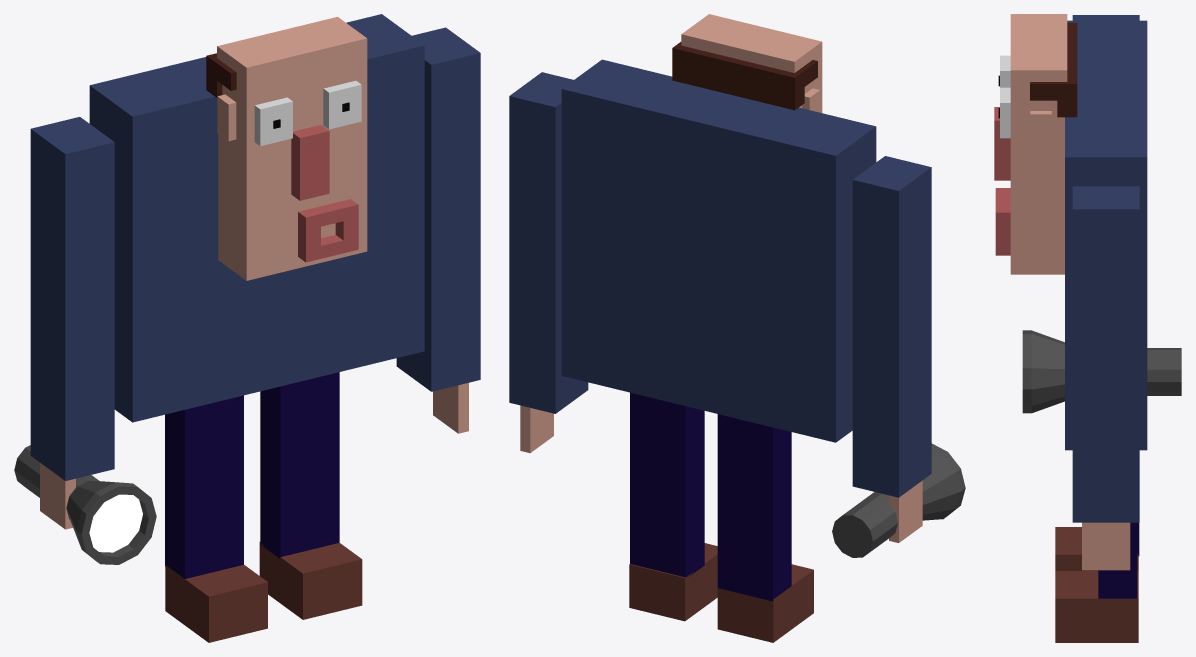
The model's file is Man.glb.
3 renders of one model, left to right at view 1: azimuth 30°, elevation 25°; view 2: azimuth 150°, elevation 25°; view 3: azimuth 270°, elevation 25°, orthographic. The views are drawn at different scales.
Parts seen in each view (by area): view 1: Cube, Cube.003, Cube.001, Cube.002, Cube.004, Cube.005, Cylinder, Cube.007, Cube.006, Cube.016, Cube.010, Cube.011 (+5 smaller); view 2: Cube, Cube.003, Cube.002, Cube.005, Cube.004, Cube.013, Cylinder, Cube.001, Cube.007, Cube.006, Cube.009, Cube.008; view 3: Cube.002, Cube, Cube.001, Cube.006, Cylinder, Cube.008, Cube.013, Cube.004, Cube.007, Cube.016, Cube.010, Cube.014 (+3 smaller).
Part boxes in pixels (x1,y1,x2,y2): Cube: (89, 14, 424, 422); Cube.003: (30, 117, 114, 480); Cube.001: (217, 16, 367, 280); Cube.002: (396, 27, 480, 391); Cube.004: (260, 372, 339, 558); Cube.005: (165, 395, 243, 578); Cylinder: (14, 445, 156, 564); Cube.007: (165, 565, 267, 642); Cube.006: (259, 542, 362, 619); Cube.016: (298, 199, 358, 262); Cube.010: (291, 125, 329, 200); Cube.011: (323, 80, 361, 129); Cube: (561, 59, 876, 442); Cube.003: (852, 156, 931, 497); Cube.002: (509, 72, 588, 413); Cube.005: (717, 414, 791, 601); Cube.004: (630, 392, 704, 577); Cube.013: (672, 42, 817, 110); Cylinder: (832, 443, 965, 557); Cube.001: (681, 14, 822, 112); Cube.007: (717, 564, 813, 642); Cube.006: (629, 543, 717, 621); Cube.009: (889, 480, 922, 542); Cube.008: (520, 405, 553, 453); Cube.002: (1072, 186, 1139, 522); Cube: (1065, 20, 1147, 450); Cube.001: (1010, 14, 1067, 274); Cube.006: (1055, 571, 1138, 642); Cylinder: (1022, 330, 1181, 413); Cube.008: (1082, 522, 1130, 570); Cube.013: (1030, 23, 1077, 117); Cube.004: (1098, 522, 1137, 598); Cube.007: (1055, 527, 1138, 570); Cube.016: (995, 188, 1010, 255); Cube.010: (994, 107, 1010, 180); Cube.014: (1030, 111, 1051, 149).
Size of the model in its own units: 2.91 by 3.85 by 1.16.
